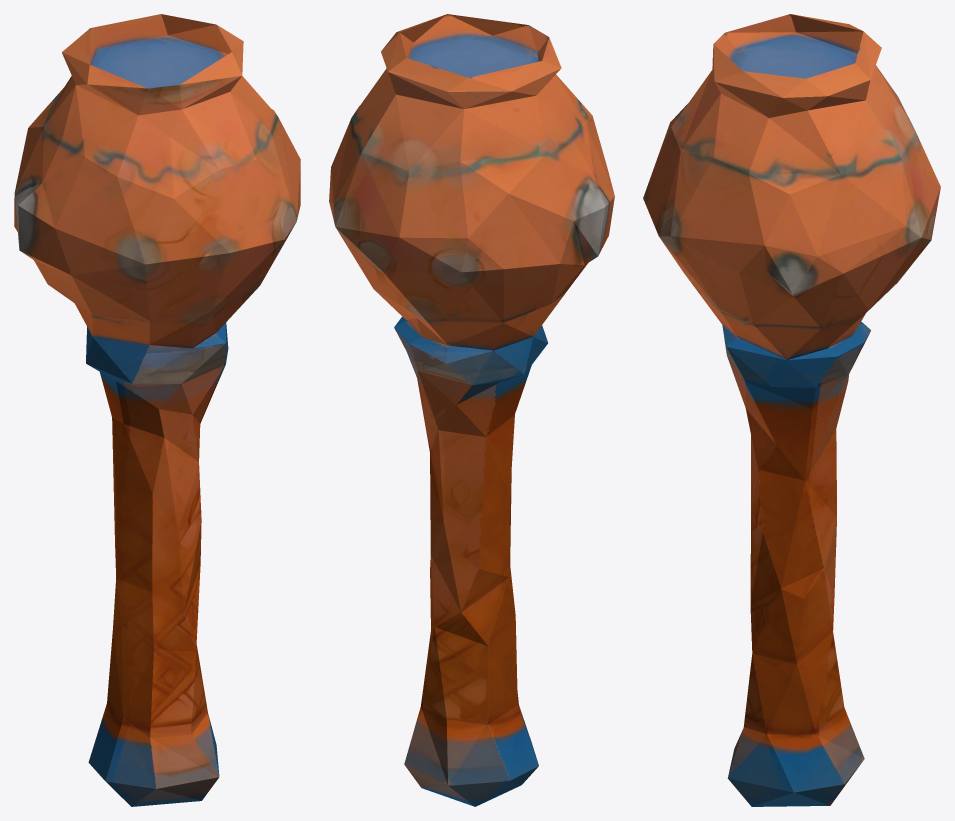
Rendered from bejeweled_scepter.glb.
3 renders of one model, left to right at view 1: azimuth 30°, elevation 25°; view 2: azimuth 150°, elevation 25°; view 3: azimuth 270°, elevation 25°, orthographic.
Parts seen in each view (by area): view 1: TexturedMesh_.obj; view 2: TexturedMesh_.obj; view 3: TexturedMesh_.obj.
Part boxes in pixels (x1=…): TexturedMesh_.obj: x1=14, y1=14, x2=300, y2=806; TexturedMesh_.obj: x1=329, y1=14, x2=614, y2=806; TexturedMesh_.obj: x1=643, y1=14, x2=940, y2=806.
Bounding box in the file's own units: 0.7435 × 1.98 × 0.7124.
1 material, 1 textured.
